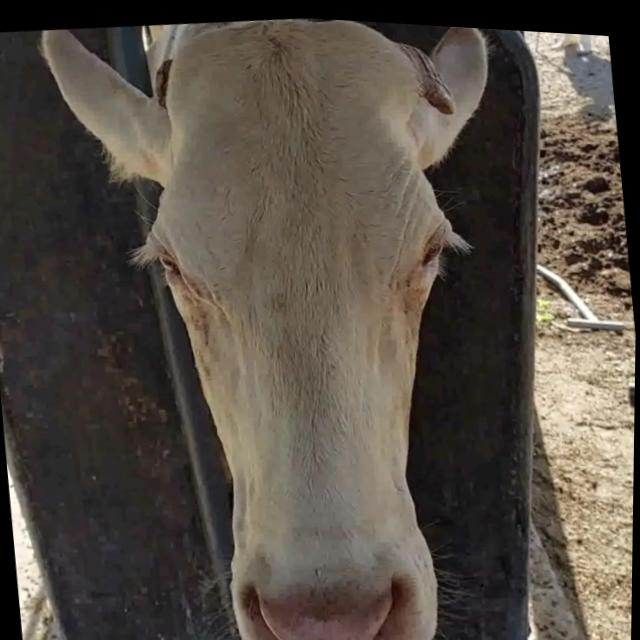cowFace: (127, 6, 491, 640)
